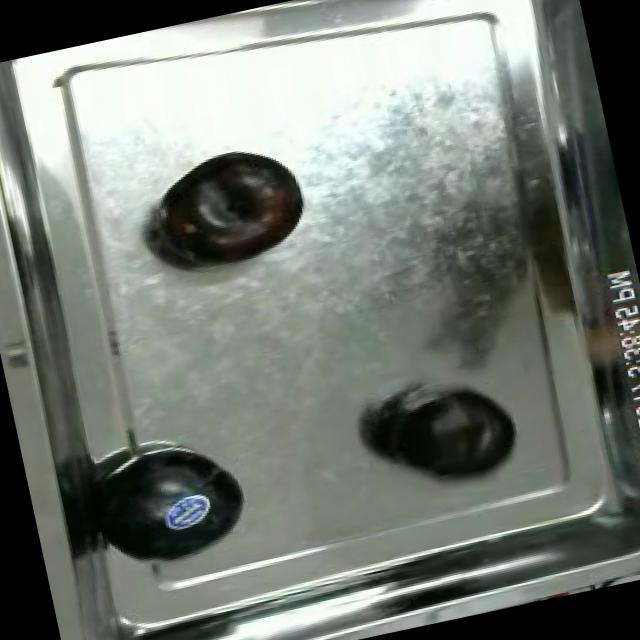Fruit: (76, 423, 266, 581), (142, 135, 320, 285), (369, 378, 521, 493)
